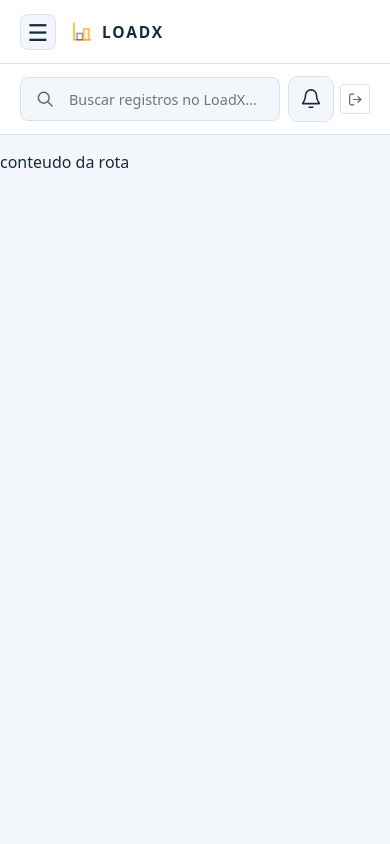
AppLayout › não expõe links proibidos dentro do menu mobile
This screenshot has width=390, height=844.
Click the button named "Abrir menu": (38, 32) x1=20 y1=14 x2=56 y2=50
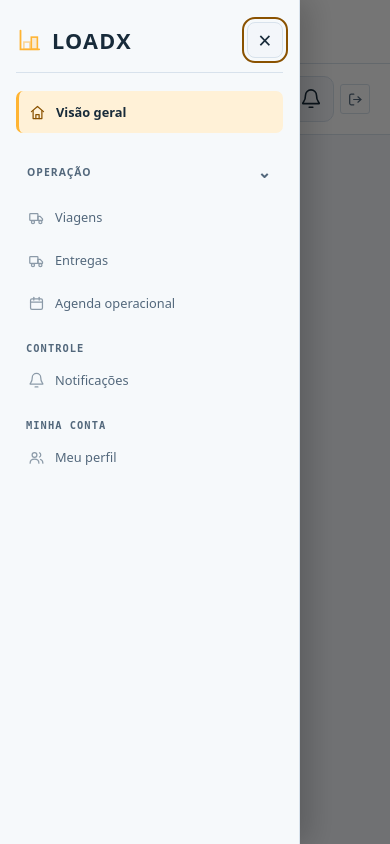
Check: the link "Meu perfil" is shown, box x1=28 y1=448 x2=116 y2=466
